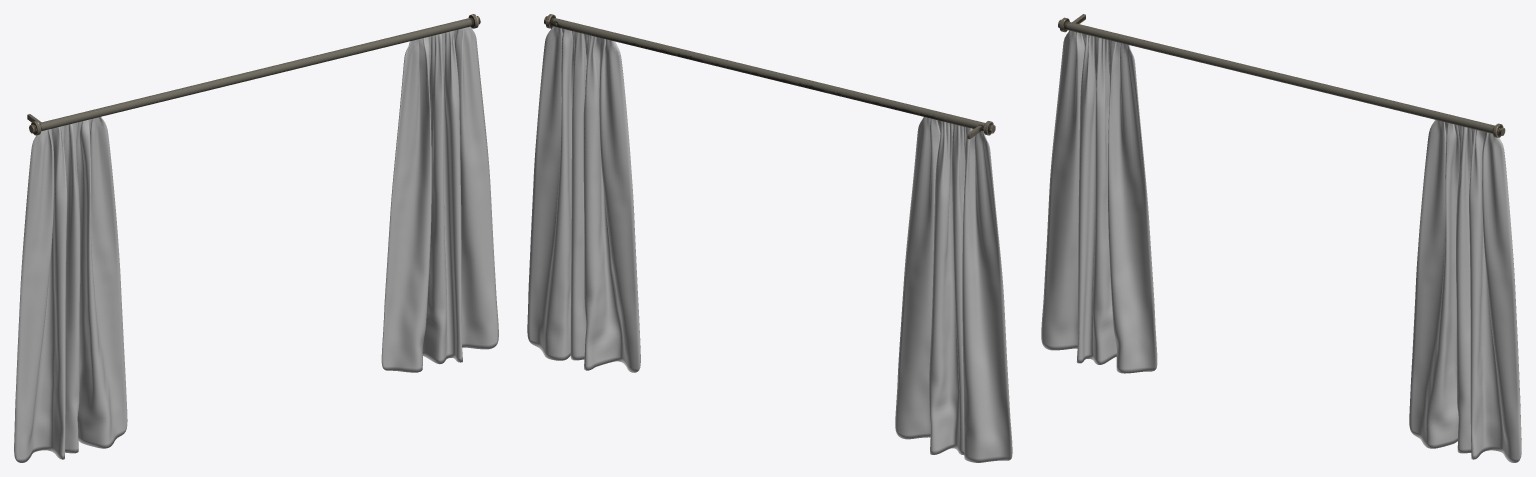
File: Curtain.fbx
3 views of the same model, side by side, from view 1: azimuth 30°, elevation 25°; view 2: azimuth 150°, elevation 25°; view 3: azimuth 330°, elevation 25° (orthographic).
Parts seen in each view (by area): view 1: Curtain.002, Curtain.001, defaultMaterial.010; view 2: Curtain.001, Curtain.002, defaultMaterial.010; view 3: Curtain.001, Curtain.002, defaultMaterial.010.
Boxes of the visible parts, left/top/right/bottom form: Curtain.002: left=14, top=117, right=127, bottom=462; Curtain.001: left=381, top=26, right=498, bottom=372; defaultMaterial.010: left=29, top=14, right=480, bottom=135; Curtain.001: left=527, top=26, right=640, bottom=372; Curtain.002: left=895, top=117, right=1012, bottom=462; defaultMaterial.010: left=544, top=14, right=995, bottom=135; Curtain.001: left=1409, top=120, right=1521, bottom=462; Curtain.002: left=1041, top=30, right=1157, bottom=373; defaultMaterial.010: left=1058, top=17, right=1505, bottom=137.
Size of the model in its own units: 68171 by 45454 by 5154.
